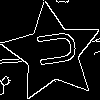U: (27, 28, 78, 70)
